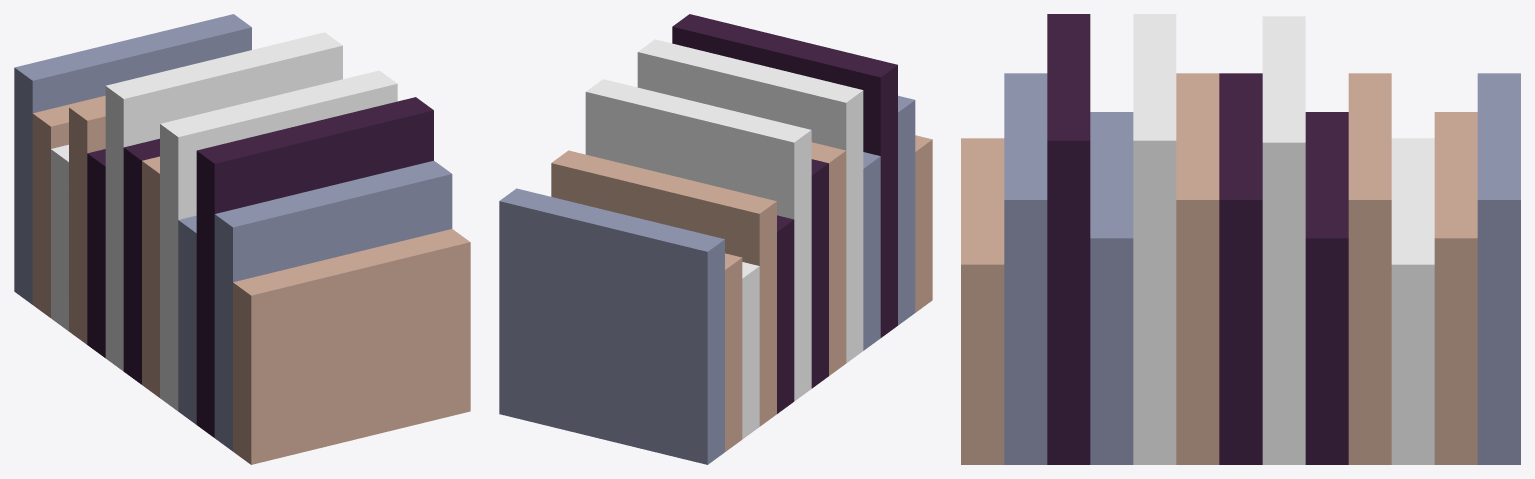
File: Book1.fbx
The picture shows the model from 3 angles, left to right: view 1: azimuth 30°, elevation 25°; view 2: azimuth 150°, elevation 25°; view 3: azimuth 270°, elevation 25°; orthographic projection. The views are drawn at different scales.
Visible parts, largest first — view 1: Books; view 2: Books; view 3: Books.
Part boxes in pixels (left/top/right/bottom): Books: left=14, top=14, right=470, bottom=464; Books: left=499, top=14, right=932, bottom=464; Books: left=961, top=14, right=1520, bottom=464.
Size of the model in its own units: 37.1 by 44.37 by 69.36.
